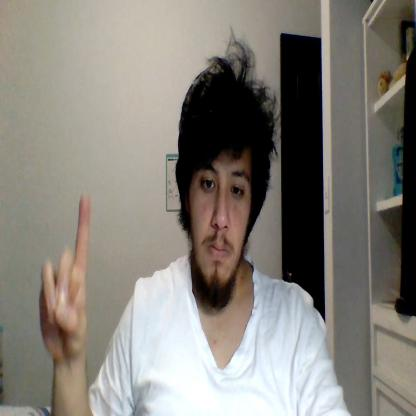D: (38, 195, 90, 360)
